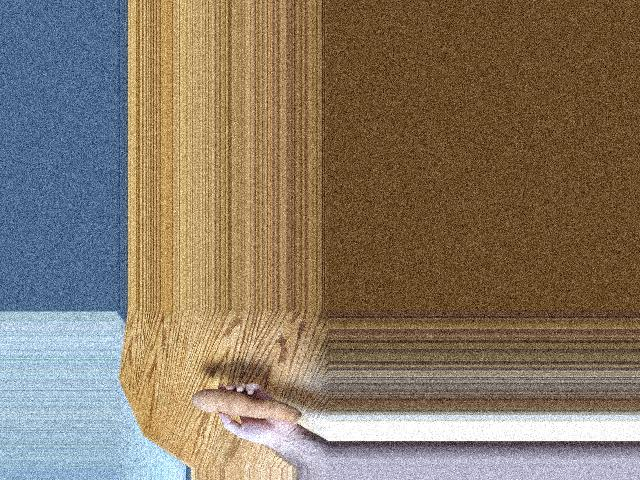sweet_potato: (191, 381, 296, 424)
